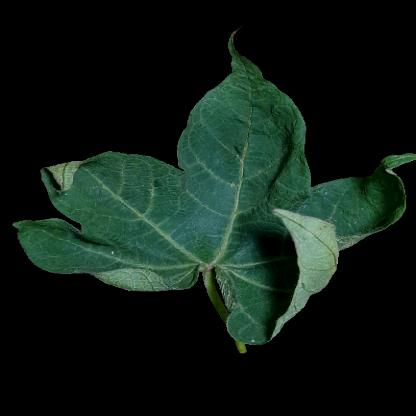curl_stage2: (242, 203, 310, 307), (111, 198, 195, 282), (201, 103, 302, 165), (43, 164, 93, 196)
